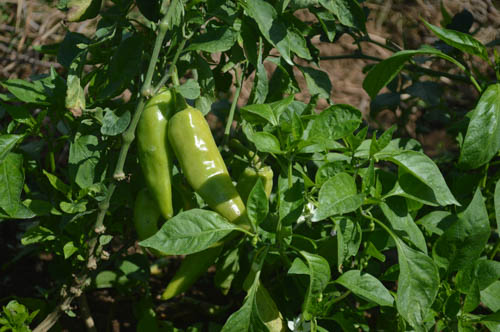ChiliPepper: (160, 168, 290, 292), (174, 110, 253, 225), (137, 92, 176, 221)
